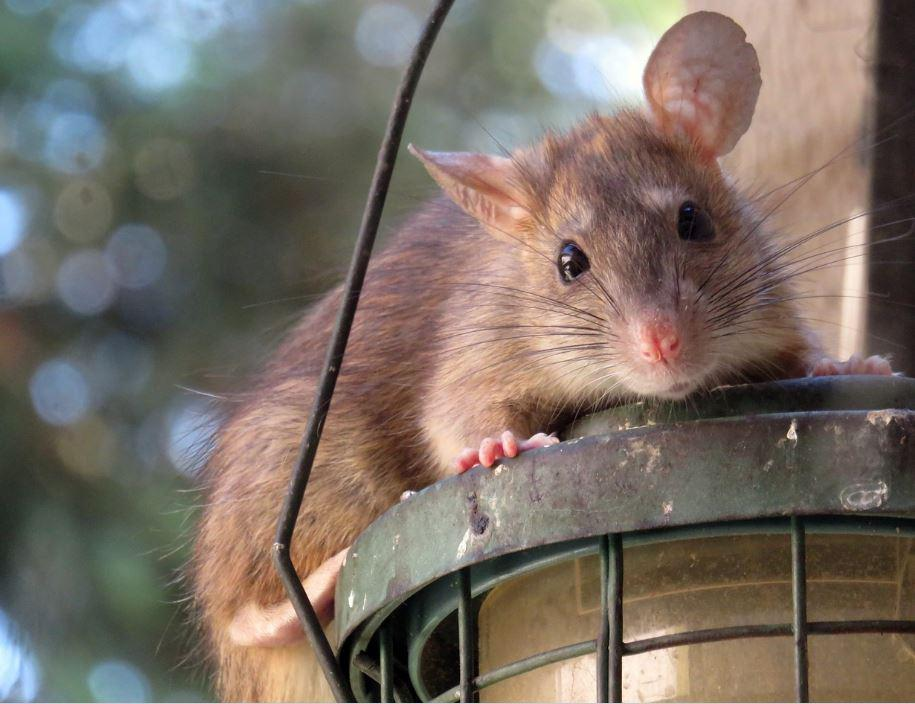rat: (189, 11, 901, 703)
